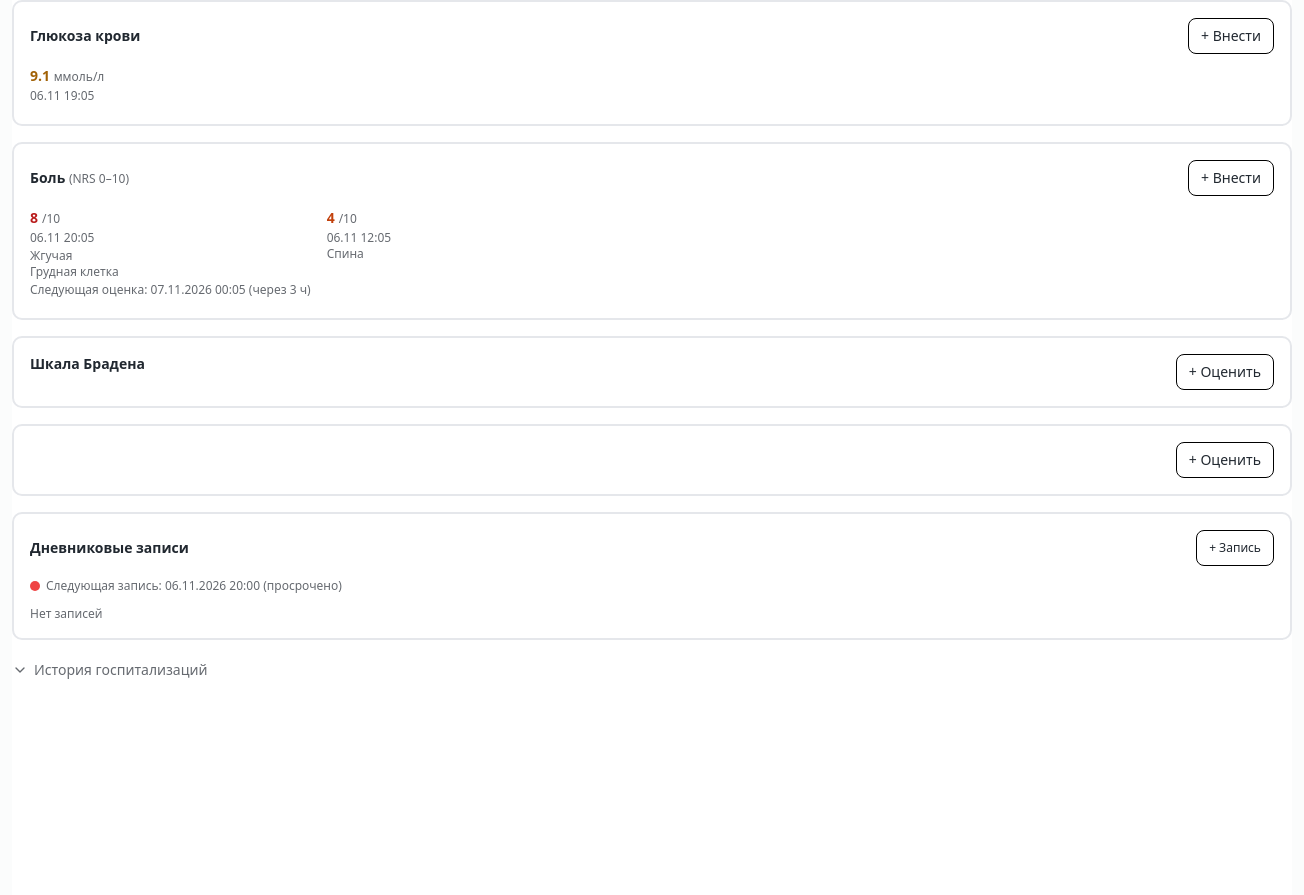
Scenario: NurseMonitoringPanel: one hospitalization history at the bottom › opens to the previous stays, and a stay shows only the parts that have records
This screenshot has width=1304, height=895.
Expected: the text "Грудная клетка" is shown, [30,263,119,280]
Click the button "История госпитализаций": (110, 670) [12,660,208,680]
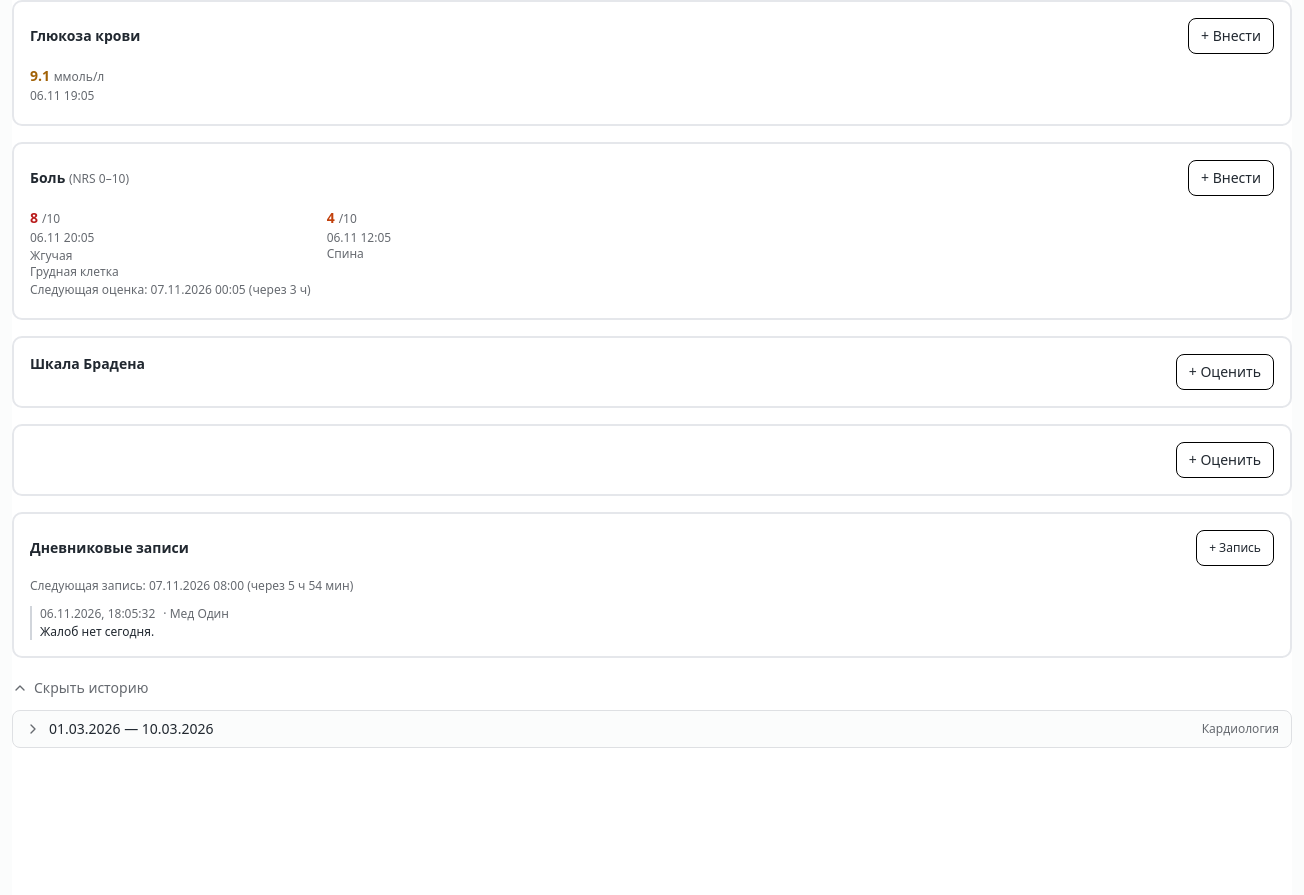
Expected: the text "Кардиология" is shown, [1202,721,1279,737]
Click the text "01.03.2026 — 10.03.2026": (131, 729) [49,719,213,739]
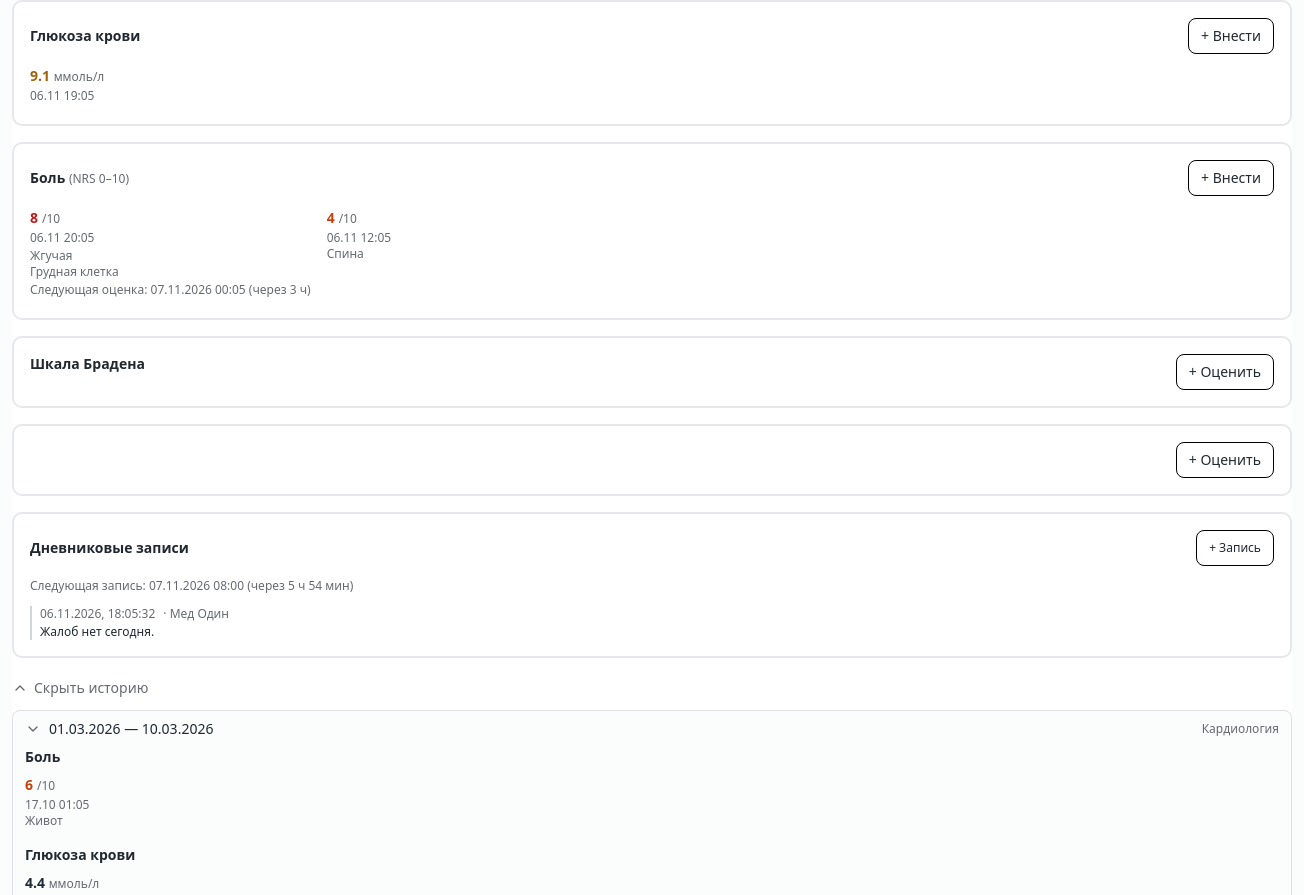
Expected: the text "Живот" is shown, [25,812,63,829]
Expected: the text "Боль" is shown, [25,747,60,766]
Expected: the text "Глюкоза крови" is shown, [25,845,135,864]
